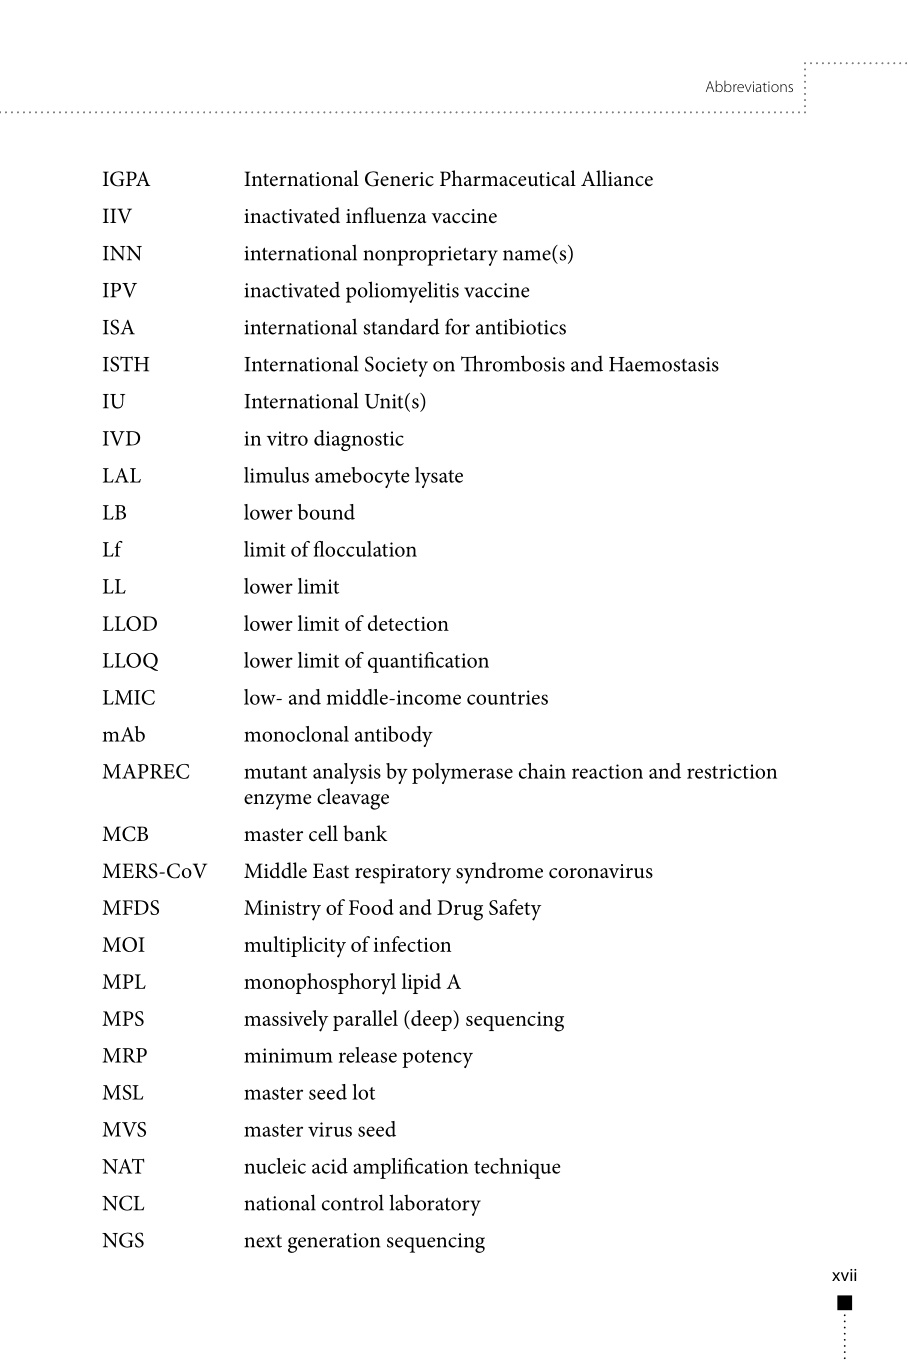nolines: (100, 167, 780, 1256)
